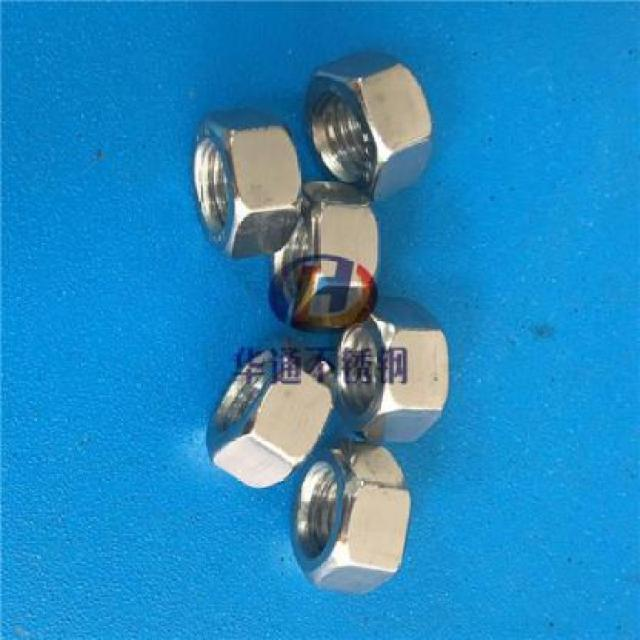Nut: (300, 50, 436, 206), (206, 343, 335, 492), (292, 443, 411, 597), (187, 106, 305, 260), (334, 294, 451, 448), (265, 179, 380, 333)
